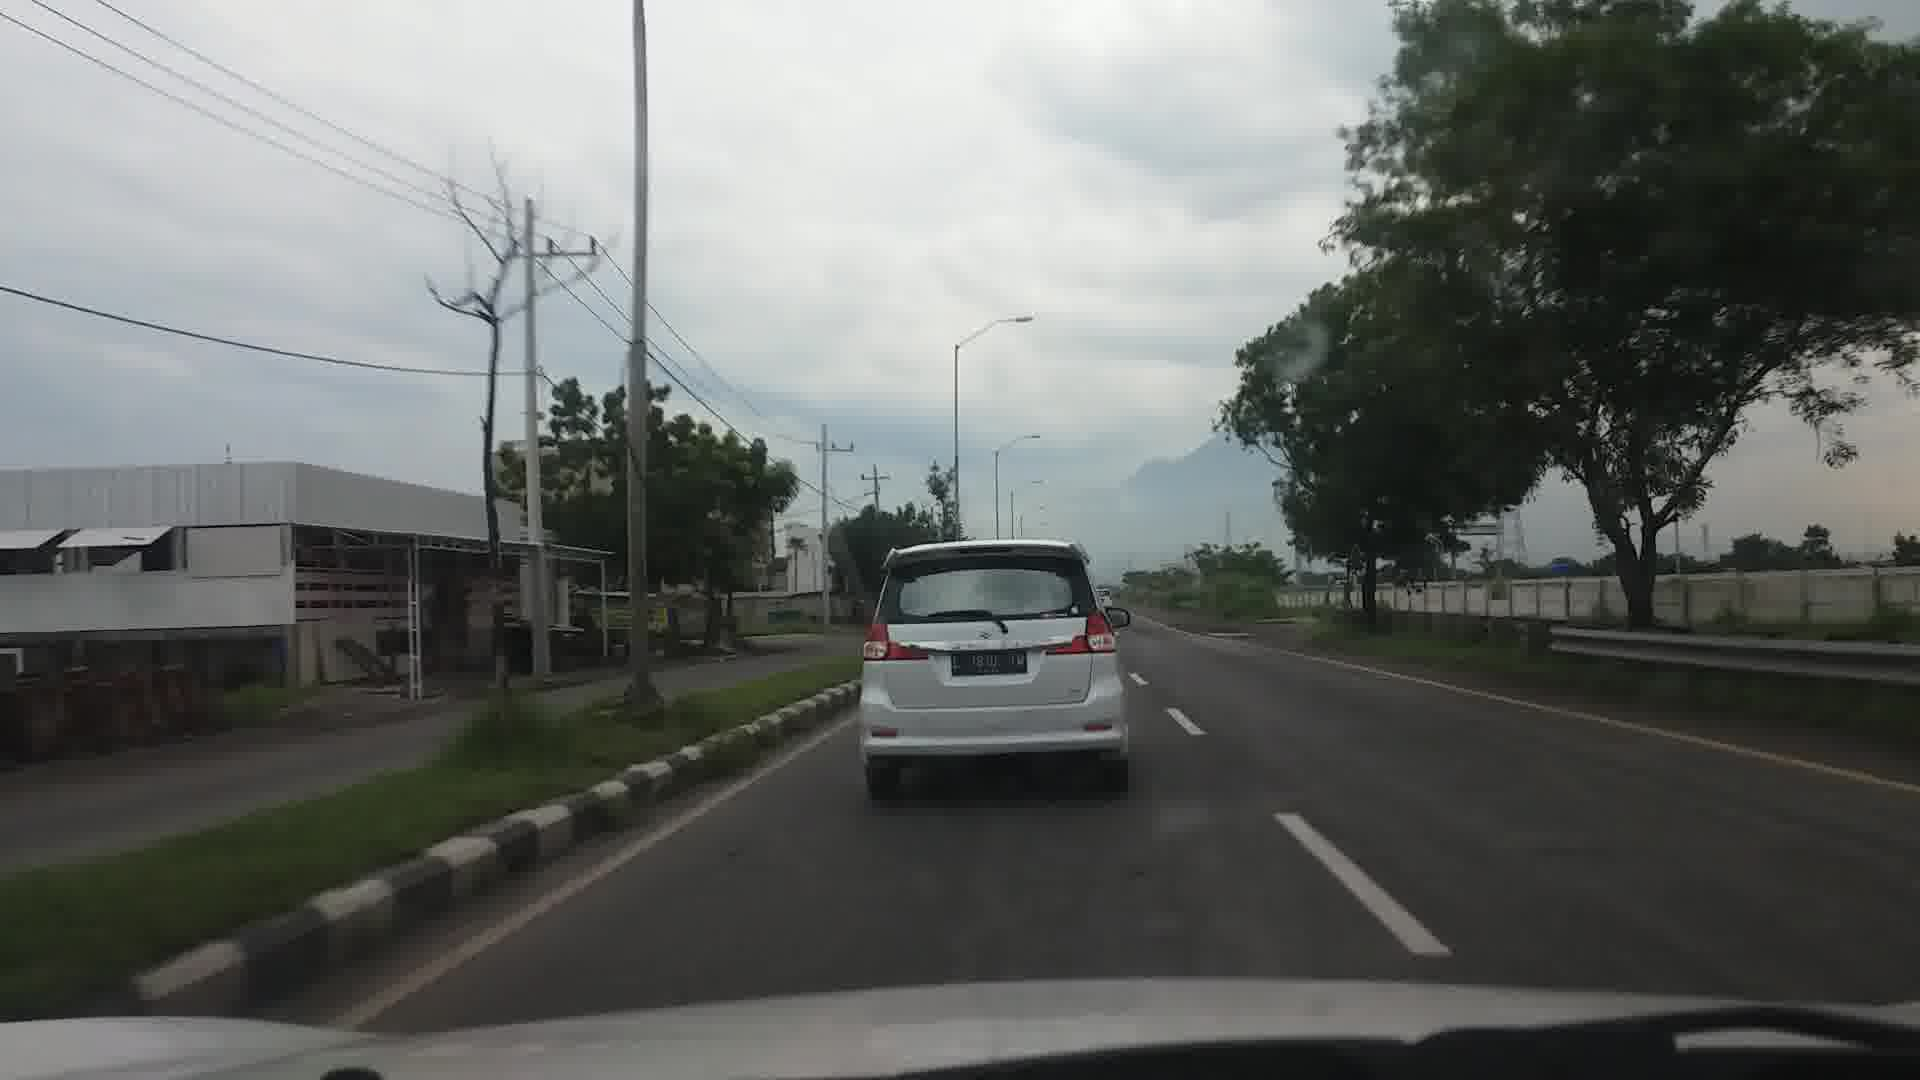plate_positive: (951, 650, 1029, 676)
